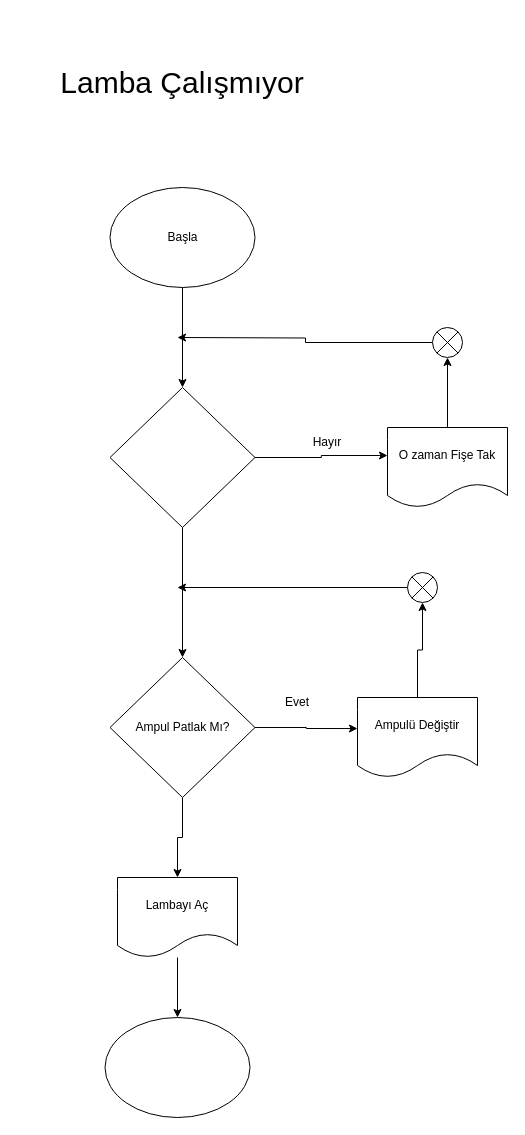
The diagram is 525 pixels wide and 1135 high, and some of its shapes have lost their labels. The shapes that lost their labels are listed below. From the top down, each one's centre as x and y in pixels, then its label:
At (x=182, y=457): "Lamba Fişe Takılımı".
At (x=177, y=1067): "Son".
